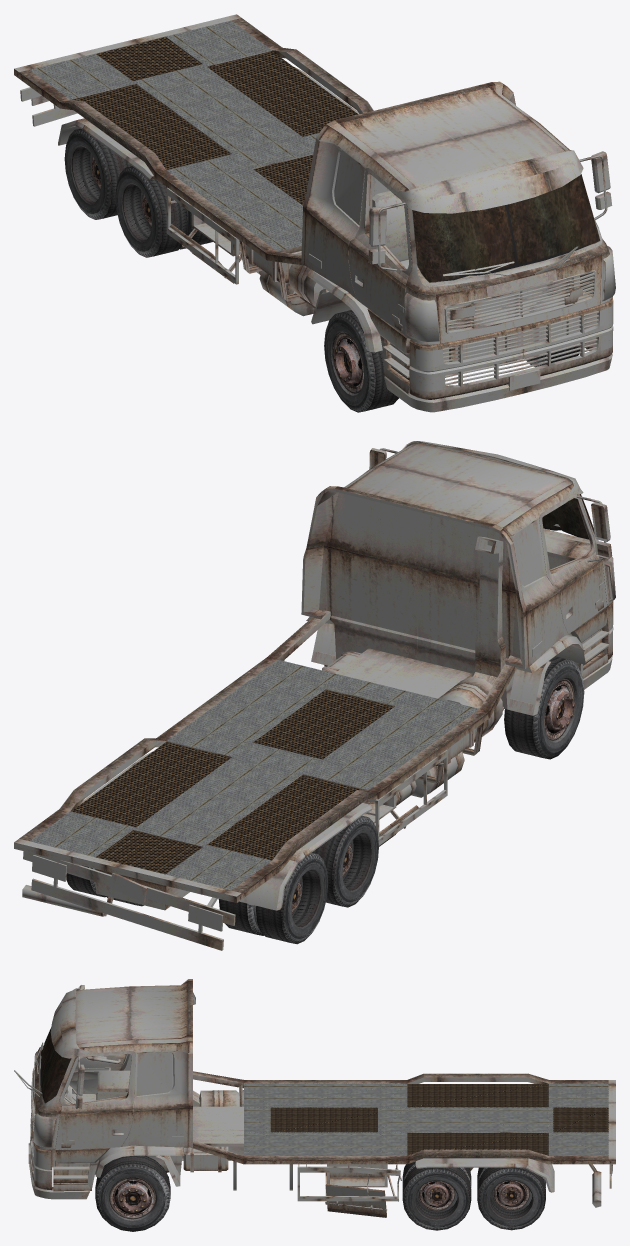
The model's file is volvo-fh.glb.
3 views of the same model, one above another, from view 1: azimuth 30°, elevation 25°; view 2: azimuth 150°, elevation 25°; view 3: azimuth 270°, elevation 25° (orthographic). The views are drawn at different scales.
Parts seen in each view (by area): view 1: Car_Body, RF_Wheel, RB_Wheel, RB_Wheel1; view 2: Car_Body, RF_Wheel, RB_Wheel1, RB_Wheel; view 3: Car_Body, LF_Wheel, LB_Wheel, LB_Wheel1.
Part boxes in pixels (left/top/right/bottom): Car_Body: left=14, top=14, right=615, bottom=412; RF_Wheel: left=324, top=310, right=398, bottom=412; RB_Wheel: left=115, top=166, right=212, bottom=257; RB_Wheel1: left=64, top=128, right=131, bottom=219; Car_Body: left=14, top=441, right=615, bottom=950; RF_Wheel: left=504, top=656, right=584, bottom=759; RB_Wheel1: left=218, top=852, right=328, bottom=944; RB_Wheel: left=312, top=816, right=378, bottom=907; Car_Body: left=14, top=979, right=615, bottom=1217; LF_Wheel: left=95, top=1155, right=170, bottom=1231; LB_Wheel: left=402, top=1161, right=471, bottom=1230; LB_Wheel1: left=477, top=1167, right=545, bottom=1230.
Size of the model in its own units: 3.49 by 3.48 by 10.25.
Materials: 5 (5 with a texture image).
